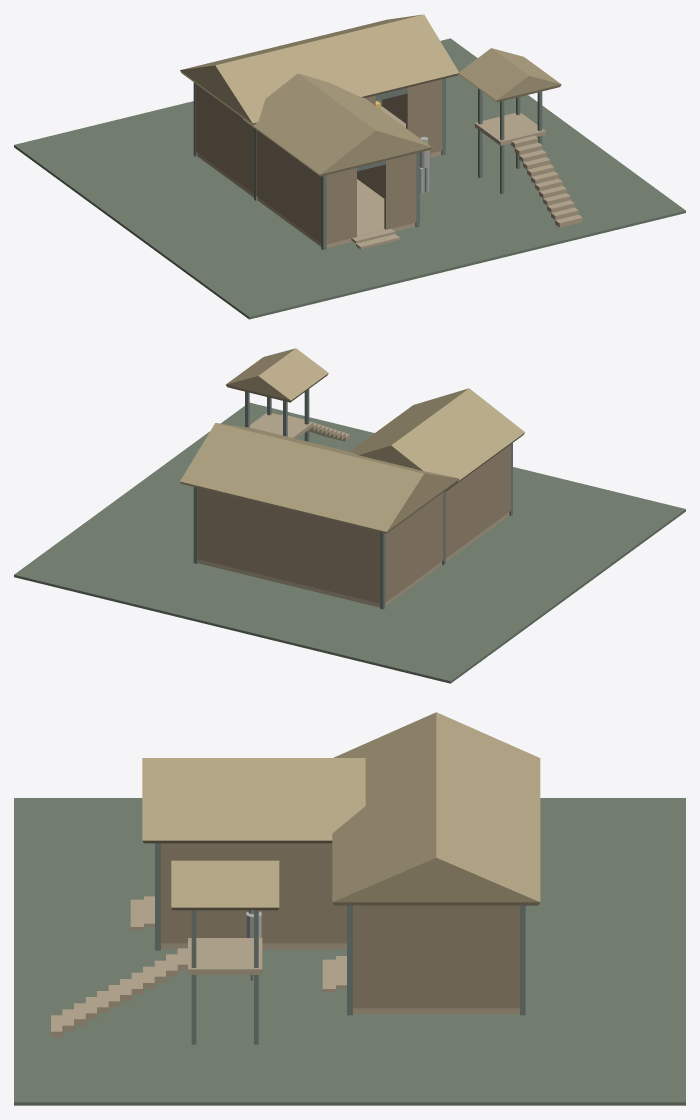
The model's file is C3_MissionBlockout.fbx.
The picture shows the model from 3 angles, top to bottom: view 1: azimuth 30°, elevation 25°; view 2: azimuth 150°, elevation 25°; view 3: azimuth 270°, elevation 25°; orthographic projection. The views are drawn at different scales.
Visible parts, largest first — view 1: Review ground.002, Palm roof volume.002, Palm roof volume.003, Side wall.006, Side wall.004, Palm roof volume.004, Front right.002, Front left.002, Front right.001, Raised plank floor.003, Low watch platform, Side wall.007; view 2: Review ground.002, Palm roof volume.002, Rear wall.002, Palm roof volume.003, Side wall.006, Side wall.004, Palm roof volume.004, Raised plank floor.002, Low watch platform; view 3: Review ground.002, Palm roof volume.002, Palm roof volume.003, Side wall.005, Side wall.007, Palm roof volume.004, Low watch platform, Raised plank floor.002, Raised plank floor.003, Tower post.002, Frame post.010, Frame post.011 (+2 smaller).
Boxes of the visible parts, x1,y1,x2,y2 form: Review ground.002: (14,38,685,319); Palm roof volume.002: (180,14,458,125); Palm roof volume.003: (242,73,431,176); Side wall.006: (256,129,321,243); Side wall.004: (196,84,253,193); Palm roof volume.004: (459,48,561,102); Front right.002: (384,153,416,229); Front left.002: (326,168,356,244); Front right.001: (406,79,442,153); Raised plank floor.003: (258,179,415,248); Low watch platform: (474,112,545,145); Side wall.007: (357,165,384,198); Review ground.002: (14,402,685,683); Palm roof volume.002: (180,423,459,533); Rear wall.002: (197,487,379,603); Palm roof volume.003: (349,388,524,491); Side wall.006: (446,444,510,557); Side wall.004: (385,492,443,602); Palm roof volume.004: (226,348,328,402); Raised plank floor.002: (198,559,441,607); Low watch platform: (249,413,312,438); Review ground.002: (14,798,685,1105); Palm roof volume.002: (332,712,540,905); Palm roof volume.003: (142,758,365,843); Side wall.005: (353,905,519,1008); Side wall.007: (161,843,346,943); Palm roof volume.004: (171,860,279,910); Low watch platform: (188,938,262,974); Raised plank floor.002: (353,1008,519,1014); Raised plank floor.003: (161,943,346,949); Tower post.002: (191,910,196,1044); Frame post.010: (347,905,352,1015); Frame post.011: (520,905,525,1015).
Size of the model in its own units: 1500 by 400 by 1400.
